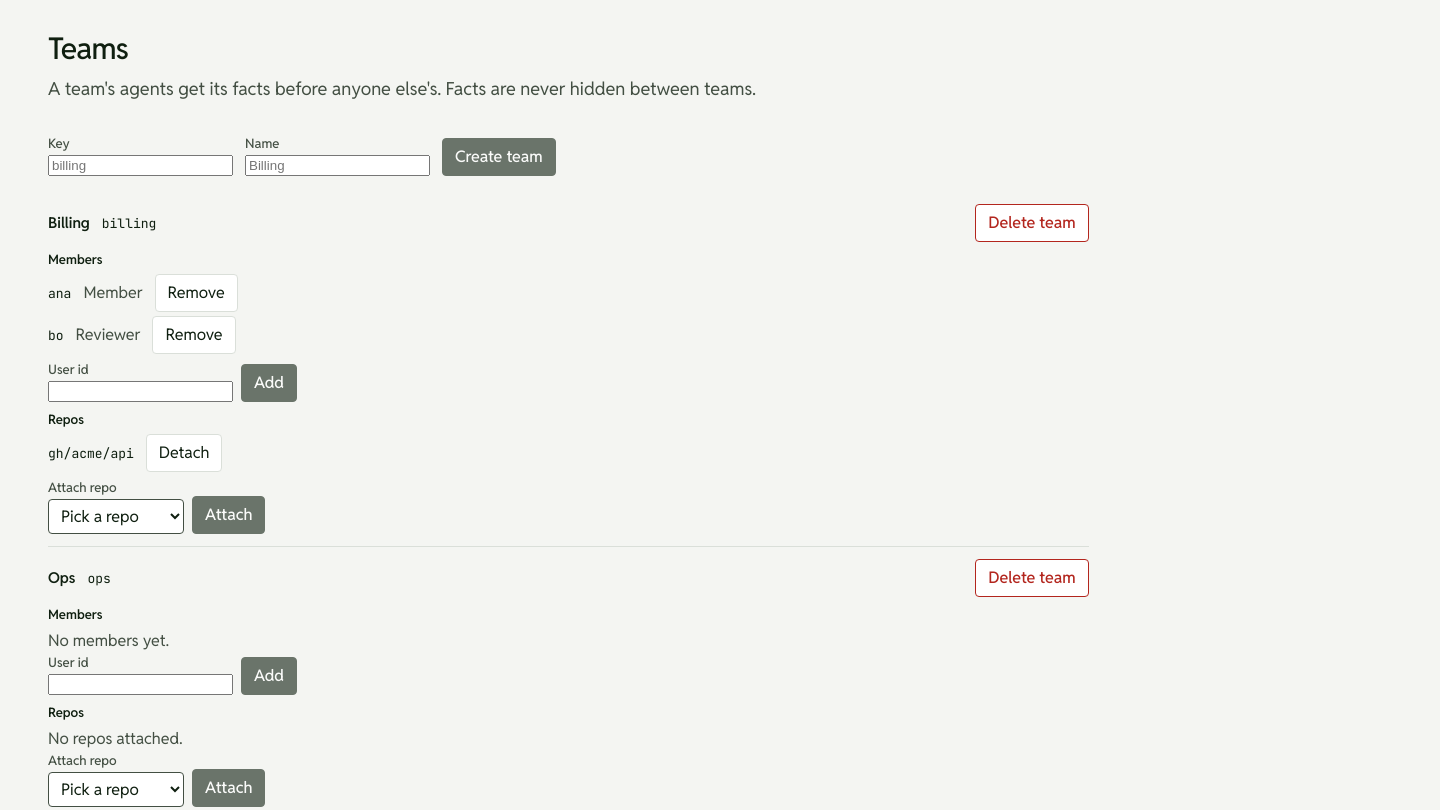
Test: teams page › removes a member
Check: the heading "Billing" is shown, box [48,212,90,234]
Click the button with aria-label "Remove ana" at (196, 292), box [154,274,238,312]
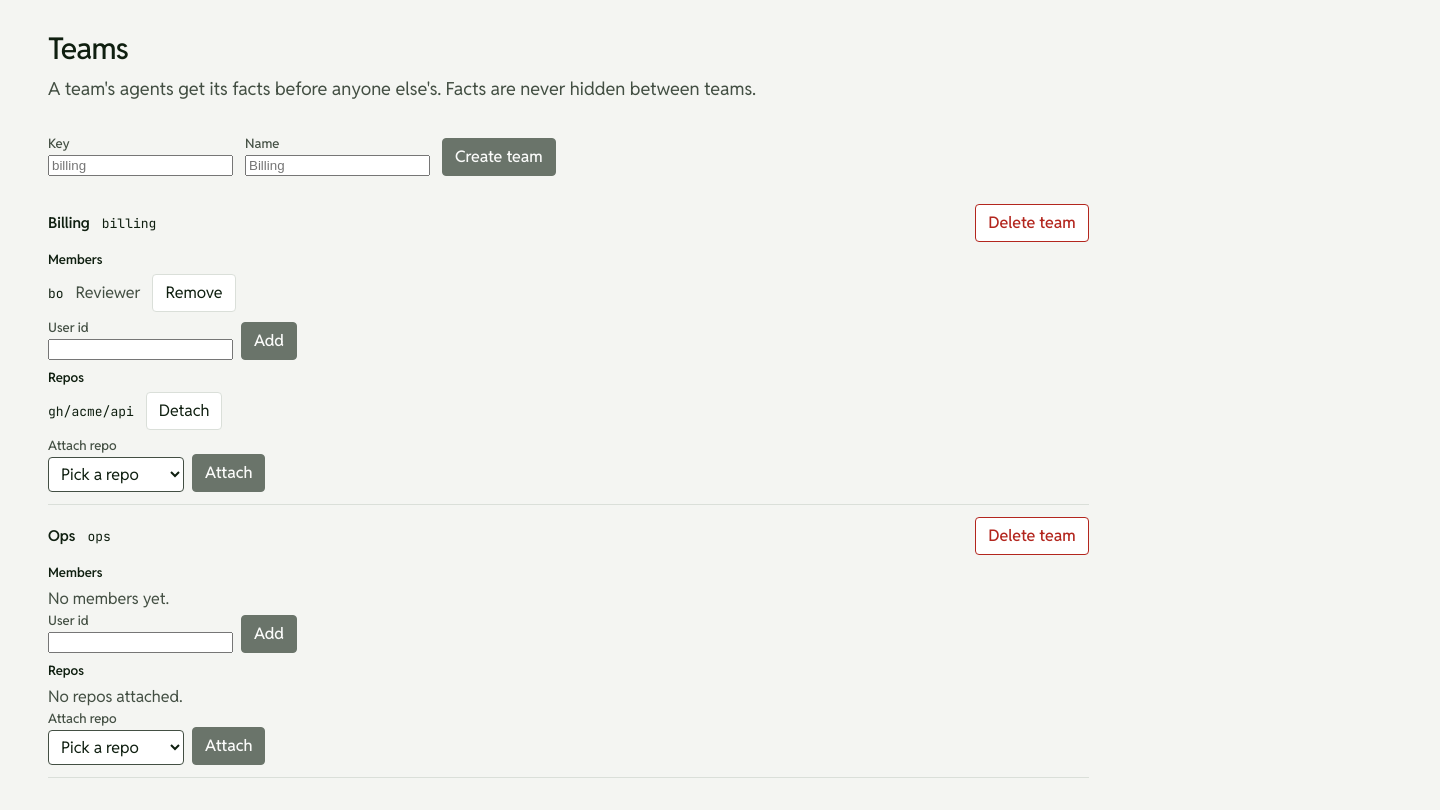
Check: the text "ana" is gone
